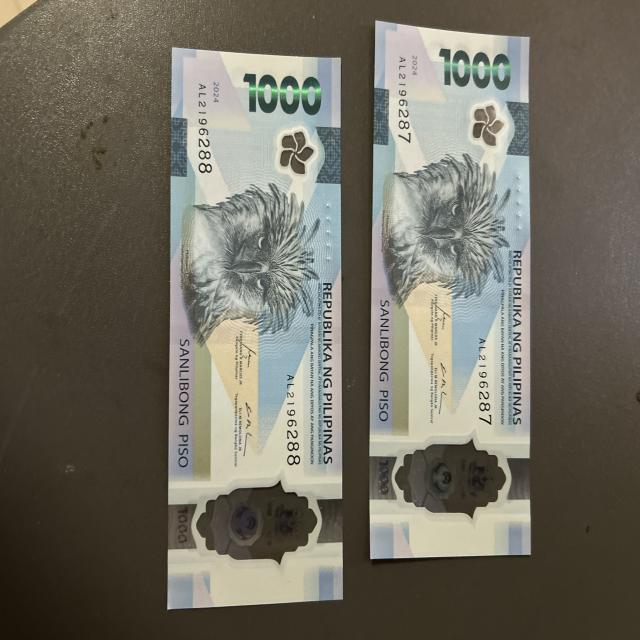clear_window: (184, 481, 322, 564), (389, 442, 518, 530)
eagle: (177, 183, 313, 327), (383, 156, 499, 288)
sampaguita: (277, 126, 317, 176), (468, 104, 506, 148)
serial_number: (281, 369, 311, 471), (191, 76, 220, 173), (474, 336, 498, 432), (396, 47, 416, 147)
value: (236, 65, 324, 115)
